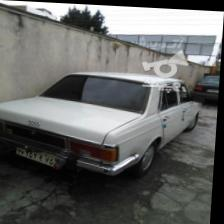plate: (18, 145, 62, 167)
